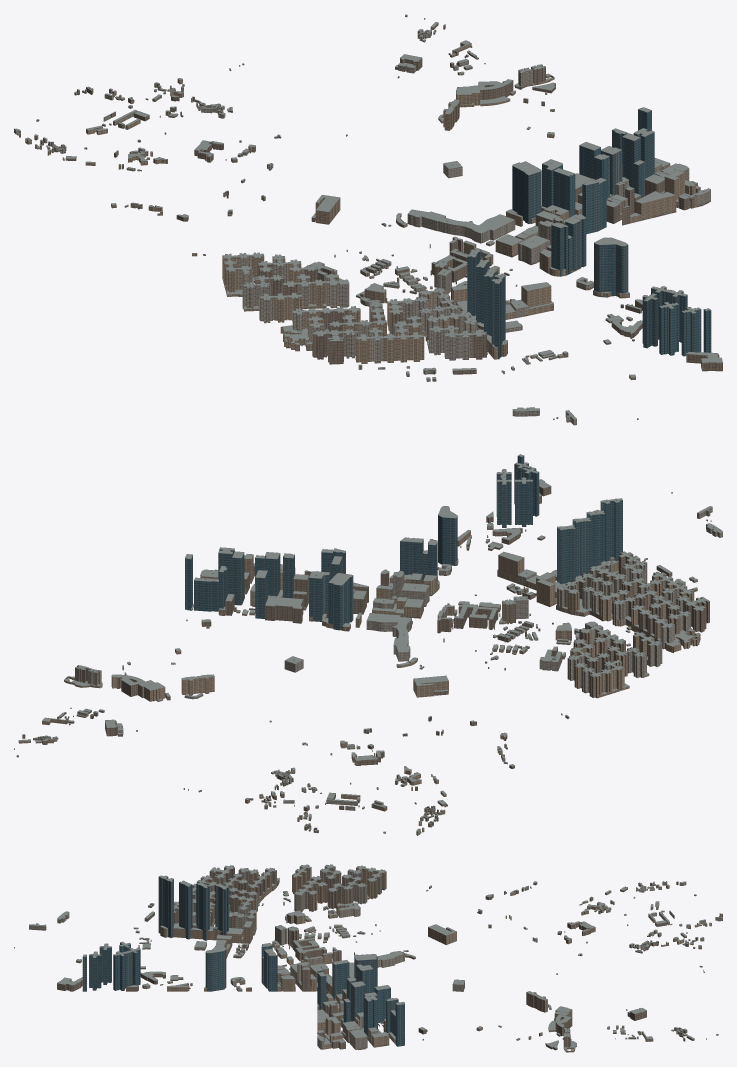
The model's file is lai-chi-kok-buildings.glb.
The picture shows the model from 3 angles, top to bottom: view 1: azimuth 30°, elevation 25°; view 2: azimuth 150°, elevation 25°; view 3: azimuth 270°, elevation 25°; orthographic projection. The views are drawn at different scales.
Visible parts, largest first — view 1: District_-25_-35, District_-21_-39, District_-22_-33, District_-27_-38, District_-22_-37.001, District_-27_-36, District_-22_-36.001, District_-19_-39, District_-20_-39, District_-23_-39, District_-20_-38.001, District_-26_-35 (+17 smaller); view 2: District_-25_-35, District_-20_-39, District_-21_-39, District_-24_-36, District_-22_-34, District_-22_-38.001, District_-27_-38, District_-19_-40, District_-27_-39, District_-25_-36, District_-22_-37.001, District_-27_-36 (+21 smaller); view 3: District_-25_-35, District_-22_-33, District_-19_-39, District_-21_-39, District_-24_-36, District_-22_-36.001, District_-22_-37.001, District_-27_-38, District_-20_-39, District_-26_-38, District_-27_-39, District_-22_-34 (+20 smaller).
Part boxes in pixels (<box>): District_-25_-35: <box>425,259,505,360</box>; District_-21_-39: <box>512,159,582,223</box>; District_-22_-33: <box>659,290,711,356</box>; District_-27_-38: <box>242,273,316,323</box>; District_-22_-37.001: <box>539,214,586,276</box>; District_-27_-36: <box>306,314,382,364</box>; District_-22_-36.001: <box>576,237,628,297</box>; District_-19_-39: <box>622,128,689,195</box>; District_-20_-39: <box>575,146,644,212</box>; District_-23_-39: <box>407,209,515,243</box>; District_-20_-38.001: <box>606,186,676,225</box>; District_-26_-35: <box>383,321,444,368</box>; District_-25_-35: <box>554,499,647,597</box>; District_-20_-39: <box>249,552,309,623</box>; District_-21_-39: <box>303,556,353,630</box>; District_-24_-36: <box>509,525,575,606</box>; District_-22_-34: <box>486,477,532,544</box>; District_-22_-38.001: <box>372,569,429,618</box>; District_-27_-38: <box>593,631,662,677</box>; District_-19_-40: <box>185,554,236,626</box>; District_-27_-39: <box>574,652,629,698</box>; District_-25_-36: <box>557,573,626,616</box>; District_-22_-37.001: <box>389,537,439,596</box>; District_-27_-36: <box>649,587,709,635</box>; District_-25_-35: <box>165,878,243,943</box>; District_-22_-33: <box>82,943,128,991</box>; District_-19_-39: <box>341,992,389,1050</box>; District_-21_-39: <box>332,954,377,1003</box>; District_-24_-36: <box>213,883,252,956</box>; District_-22_-36.001: <box>205,944,251,991</box>; District_-22_-37.001: <box>261,943,295,991</box>; District_-27_-38: <box>292,864,341,903</box>; District_-20_-39: <box>331,977,382,1028</box>; District_-26_-38: <box>294,883,342,921</box>; District_-27_-39: <box>342,865,386,901</box>; District_-22_-34: <box>119,941,165,991</box>.
Size of what is drawn, in the model's own units: 1217 by 185 by 2098.
Materials: 7 (6 with a texture image).
